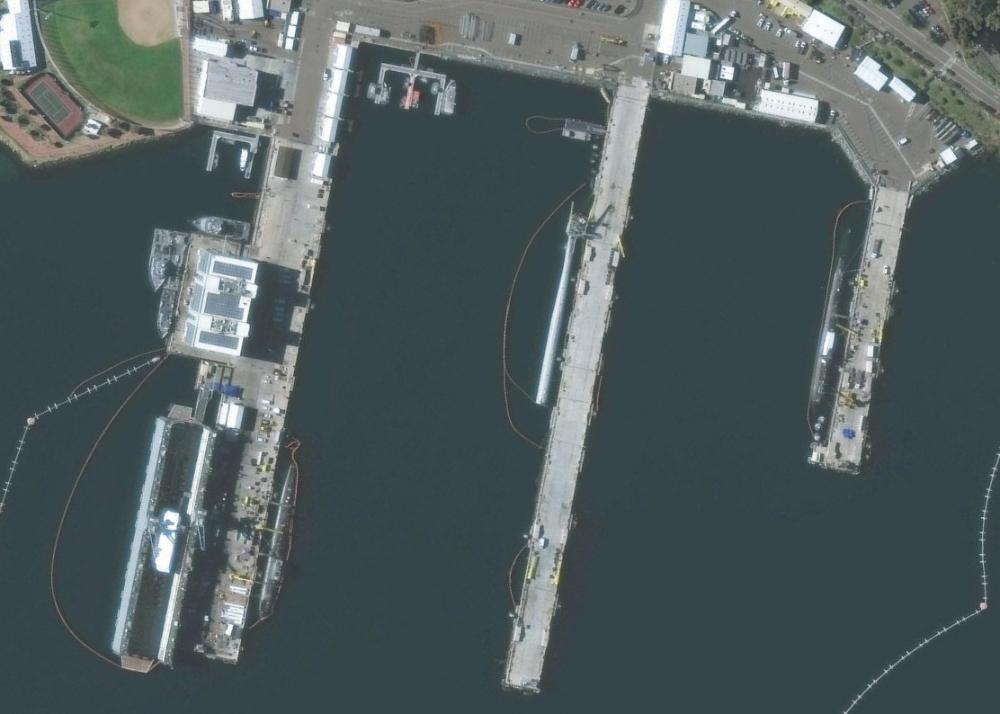submarine: (236, 449, 335, 634), (805, 253, 857, 446)
